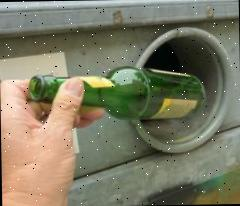glass: (26, 65, 207, 123)
